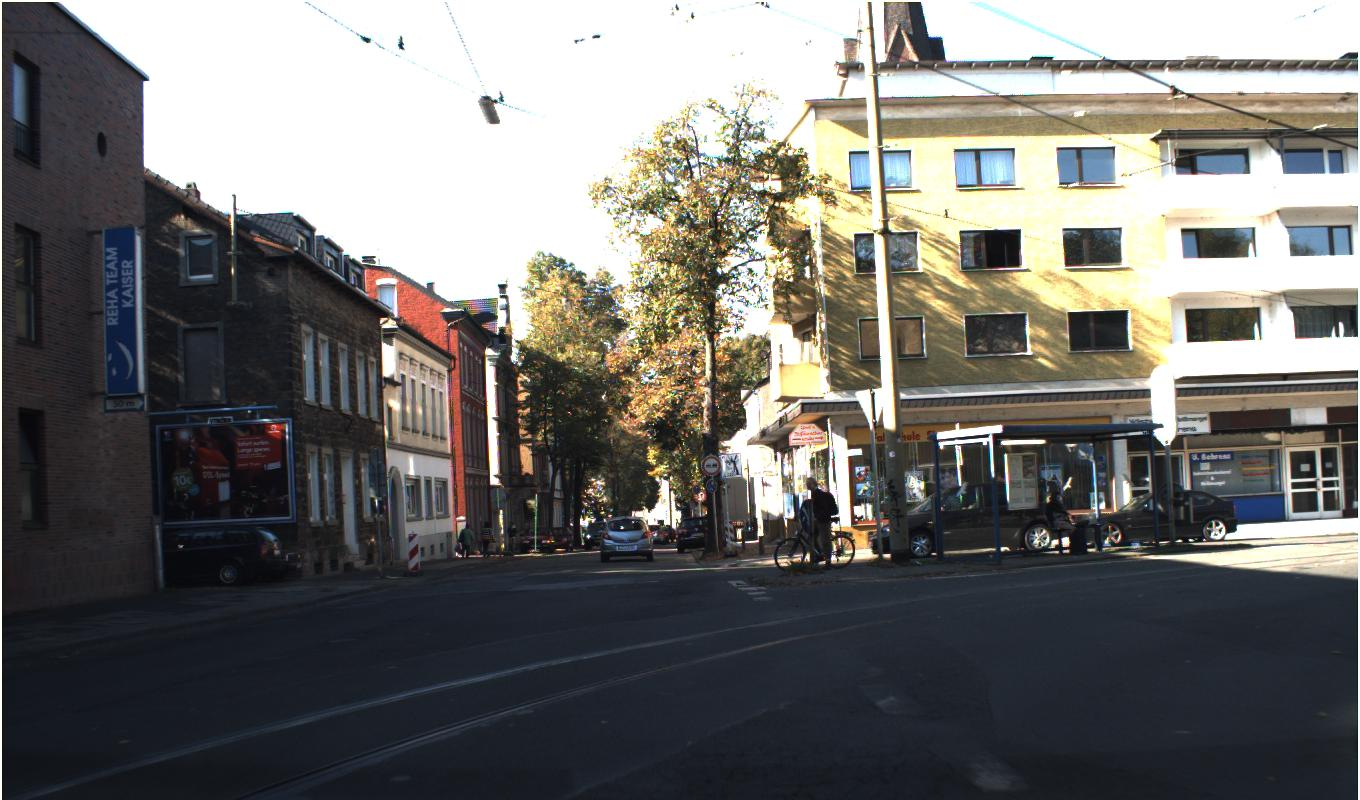prohibitory: (700, 454, 722, 476)
